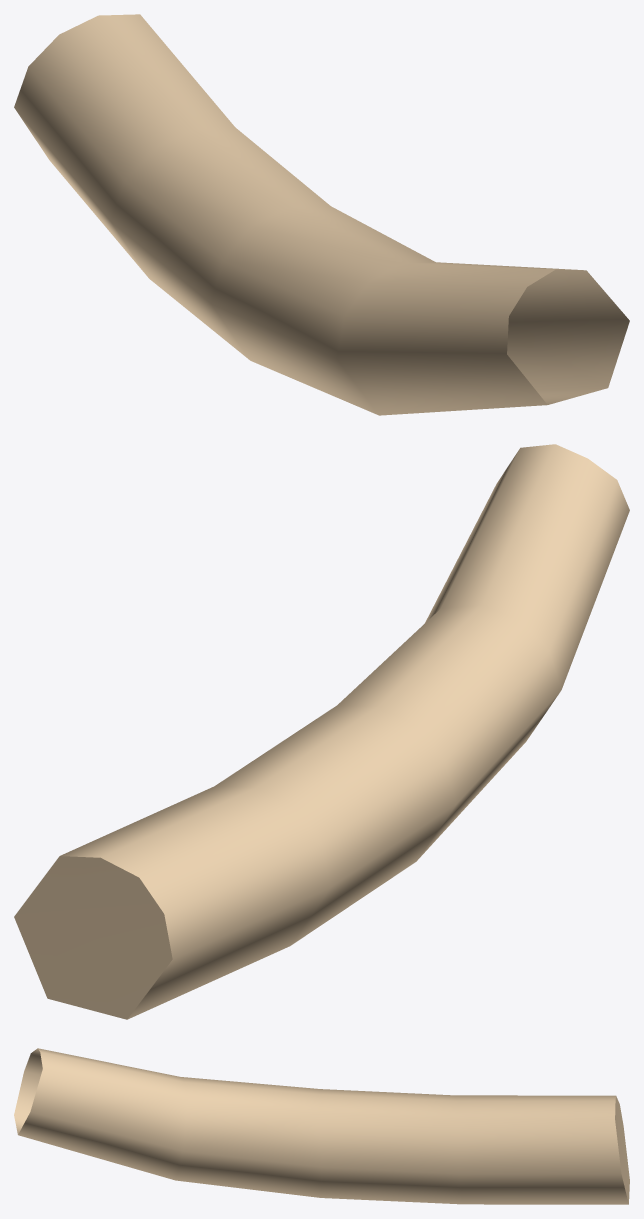
File: L_B_Abducens_Nerve01.fbx
The picture shows the model from 3 angles, top to bottom: view 1: azimuth 30°, elevation 25°; view 2: azimuth 150°, elevation 25°; view 3: azimuth 270°, elevation 25°; orthographic projection. The views are drawn at different scales.
Visible parts, largest first — view 1: L_B_Abducens_Nerve01; view 2: L_B_Abducens_Nerve01; view 3: L_B_Abducens_Nerve01.
Part boxes in pixels (x1,y1,x2,y2): L_B_Abducens_Nerve01: [14, 14, 629, 415]; L_B_Abducens_Nerve01: [14, 444, 629, 1019]; L_B_Abducens_Nerve01: [14, 1048, 629, 1204].
Size of the model in its own units: 0.1303 by 0.1458 by 0.5428.
